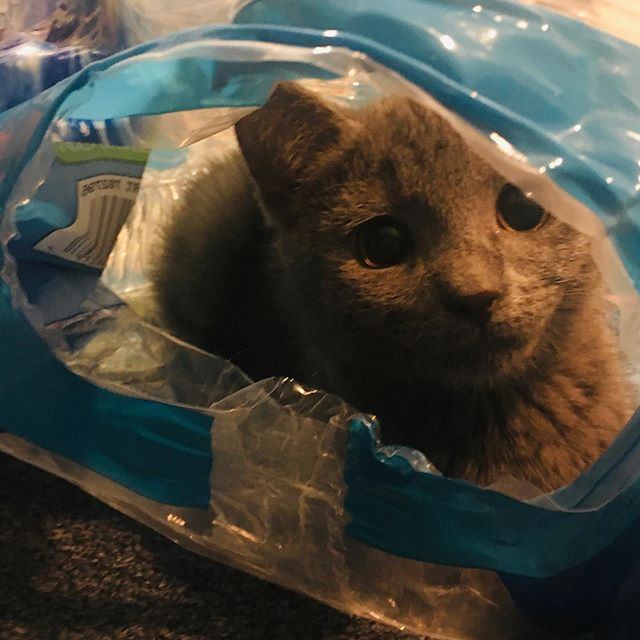cat: (217, 34, 609, 426)
